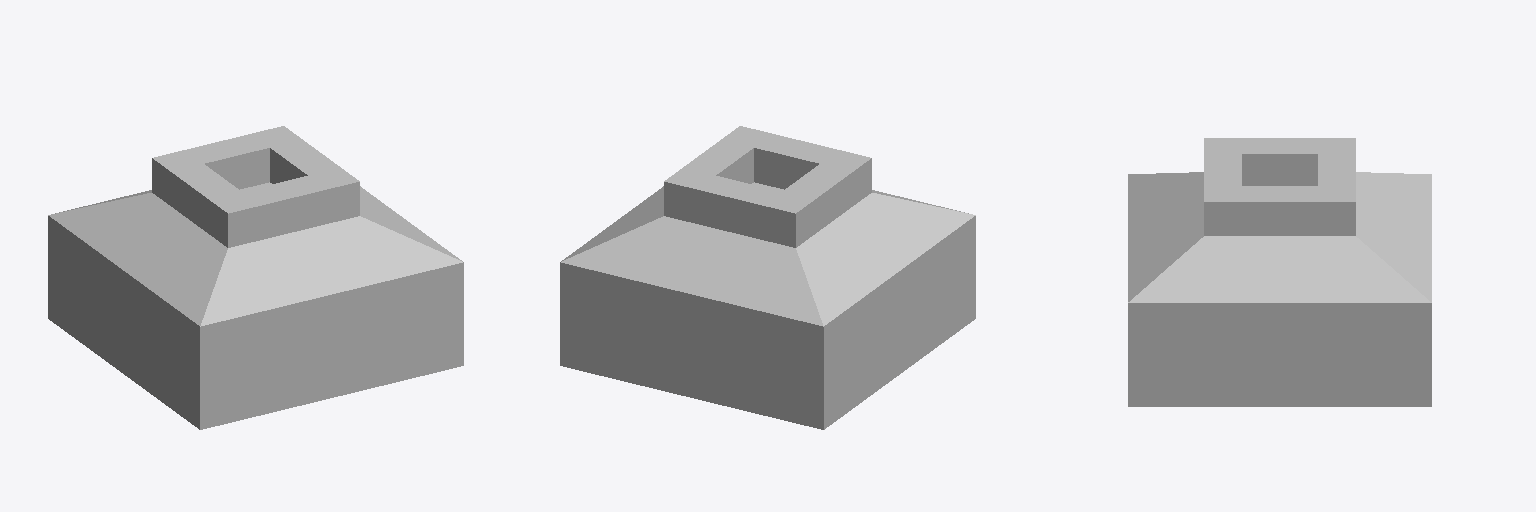
The model's file is staffChanger.obj.
The picture shows the model from 3 angles: view 1: azimuth 30°, elevation 25°; view 2: azimuth 150°, elevation 25°; view 3: azimuth 270°, elevation 25°; orthographic projection.
Parts seen in each view (by area): view 1: Cube_Cube.001; view 2: Cube_Cube.001; view 3: Cube_Cube.001.
Boxes of the visible parts, box(x1,y1,x2,y2) form: Cube_Cube.001: box(48, 126, 463, 429); Cube_Cube.001: box(560, 126, 975, 429); Cube_Cube.001: box(1128, 138, 1431, 406).
Size of the model in its own units: 2 by 1.25 by 2.